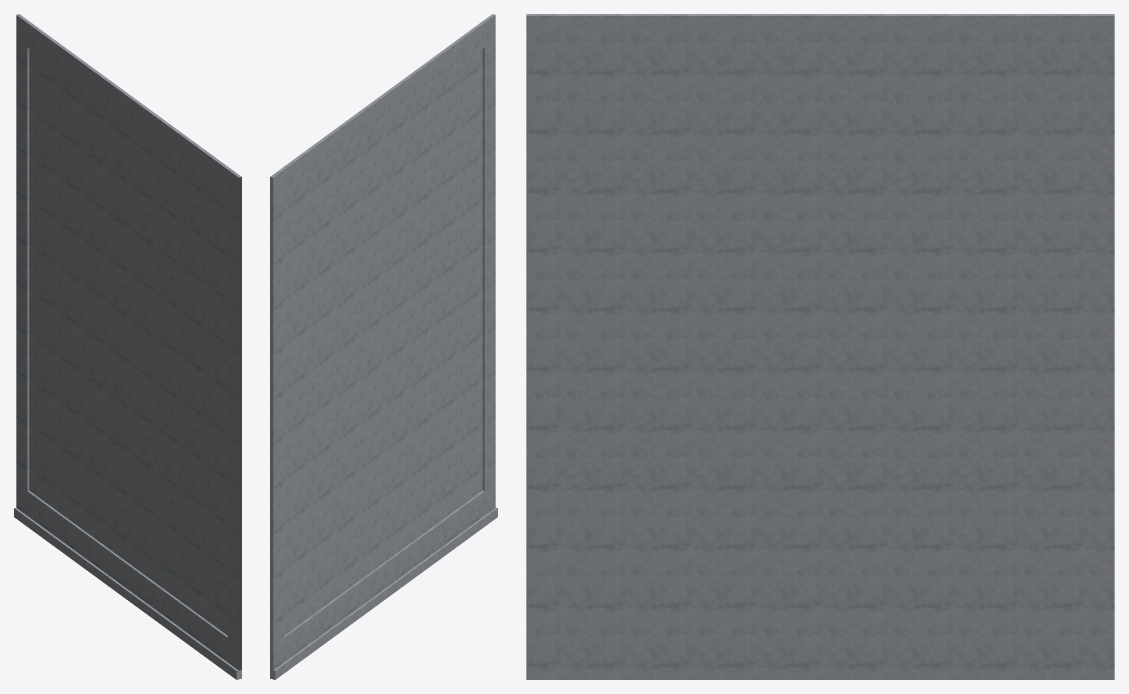
Rendered from Gate-Room-Blaster-Door.obj.
3 renders of one model, left to right at view 1: azimuth 30°, elevation 25°; view 2: azimuth 150°, elevation 25°; view 3: azimuth 270°, elevation 25°, orthographic. The views are drawn at different scales.
Visible parts, largest first — view 1: Gate-Room-Blaster-Door; view 2: Gate-Room-Blaster-Door; view 3: Gate-Room-Blaster-Door.
Boxes of the visible parts, x1,y1,x2,y2 form: Gate-Room-Blaster-Door: (14,14,241,679); Gate-Room-Blaster-Door: (270,14,497,679); Gate-Room-Blaster-Door: (526,14,1114,679).
Size of the model in its own units: 0.125 by 11.2 by 9.
